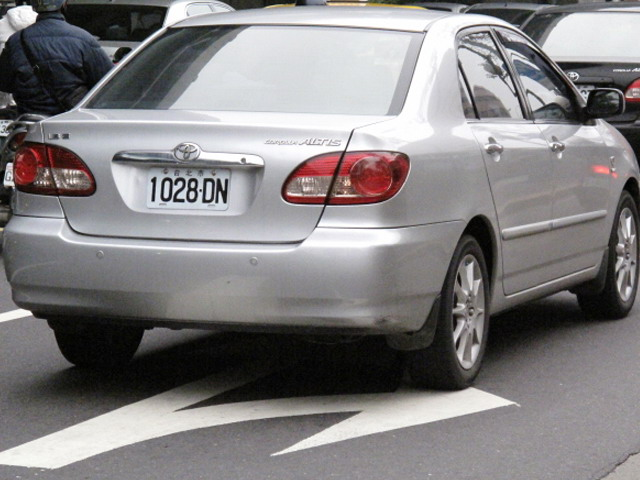plate: (145, 164, 233, 212)
